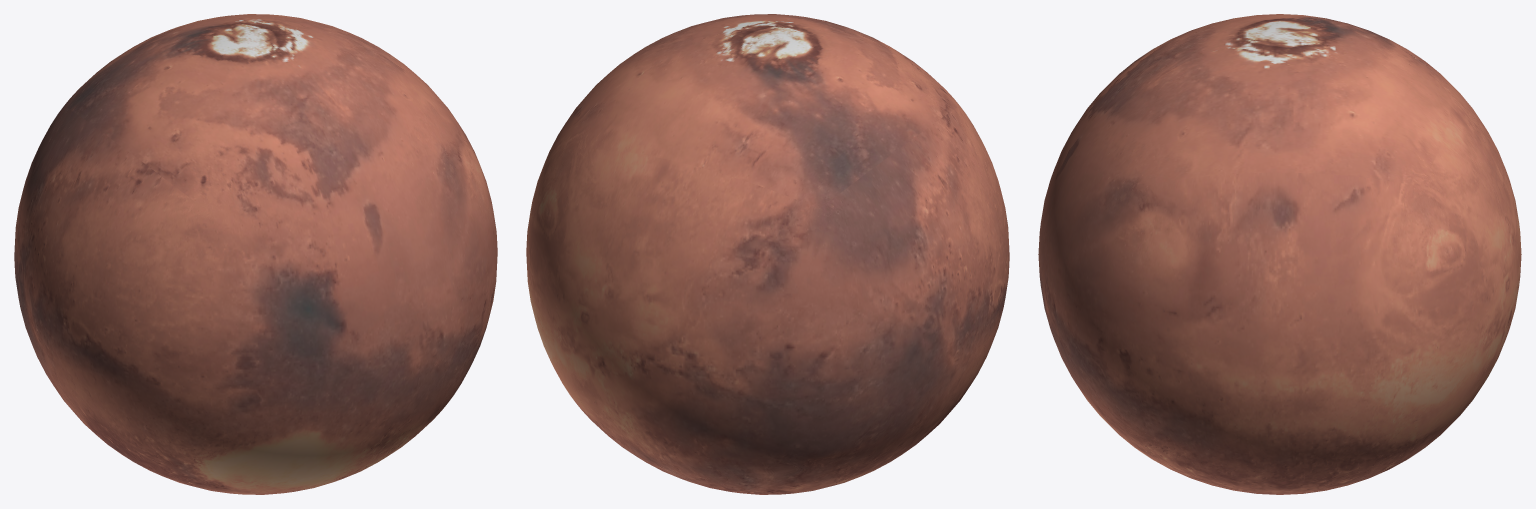
The model's file is mars.gltf.
The picture shows the model from 3 angles, left to right: view 1: azimuth 30°, elevation 25°; view 2: azimuth 150°, elevation 25°; view 3: azimuth 270°, elevation 25°; orthographic projection.
Parts seen in each view (by area): view 1: Cube008; view 2: Cube008; view 3: Cube008.
Part boxes in pixels (box(x1,y1,x2,y2)): Cube008: box(14, 14, 497, 494); Cube008: box(526, 14, 1009, 494); Cube008: box(1038, 14, 1521, 494).
Bounding box in the file's own units: 1000 × 994 × 1000.
1 material, 1 textured.
